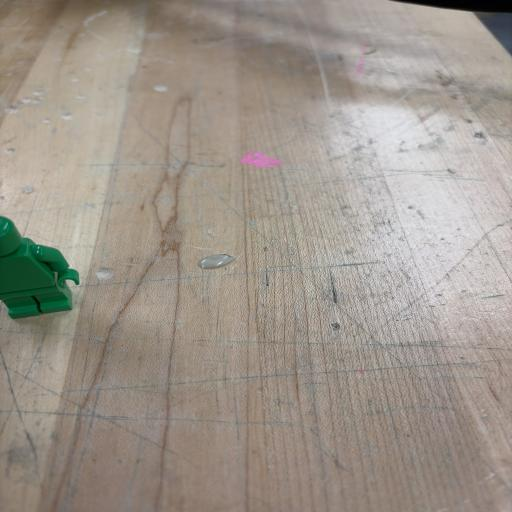Green-Lego: (0, 216, 79, 319)
